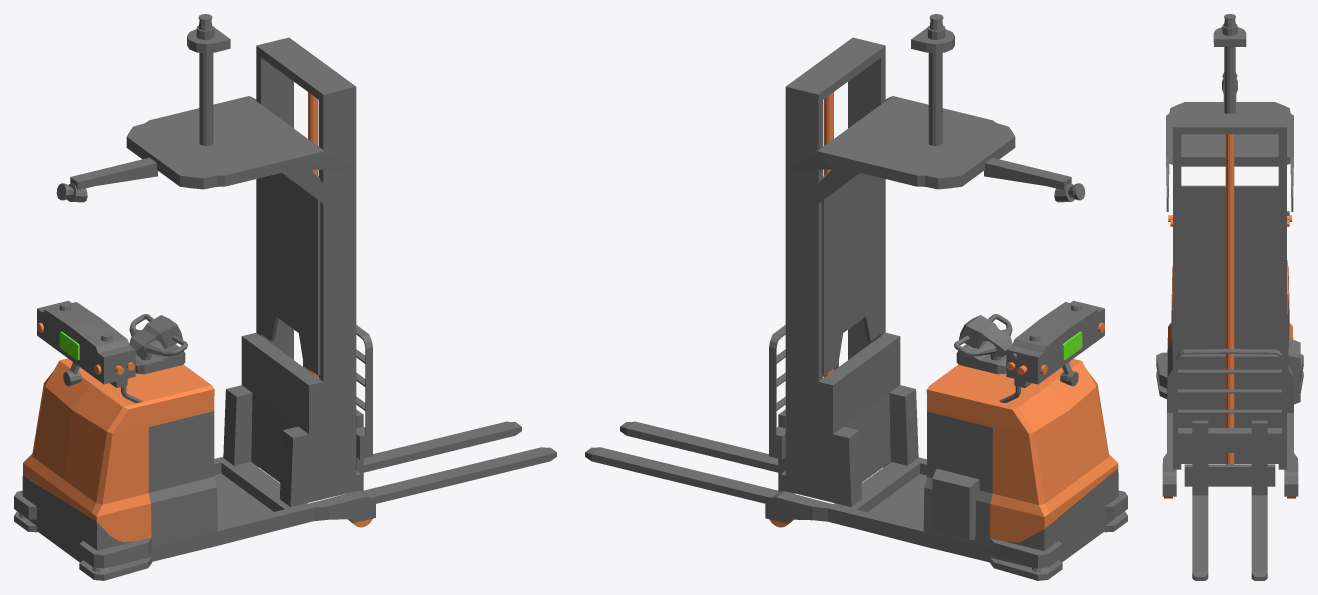
Rendered from OAE low poly.fbx.
3 views of the same model, side by side, from view 1: azimuth 30°, elevation 25°; view 2: azimuth 150°, elevation 25°; view 3: azimuth 270°, elevation 25° (orthographic). The views are drawn at different scales.
Visible parts, largest first — view 1: frontmass, mainbody, orange, roof, mastcover, fork, controlbox, sensortop, sensor.001, sensorfront, Cube.003, sensor (+2 smaller); view 2: frontmass, orange, mainbody, roof, mastcover, fork, controlbox, chargepad, sensortop, sensor.001, sensorfront, Cube.003 (+3 smaller); view 3: mastcover, frontmass, fork, roof, mainbody, pulley, sensortop, chargepad, sensor.001, orange, cone.001.
Part boxes in pixels (x1,y1,x2,y2): frontmass: (223,37,356,506); mainbody: (22,411,375,567); orange: (23,343,214,542); roof: (126,96,352,209); mastcover: (257,173,320,375); fork: (303,325,556,503); controlbox: (37,300,135,387); sensortop: (187,27,230,145); sensor.001: (14,490,151,568); sensorfront: (70,157,157,190); Cube.003: (129,315,182,356); sensor: (14,511,152,580); frontmass: (785,37,918,506); orange: (926,359,1118,542); mainbody: (765,411,1118,567); roof: (789,96,1015,209); mastcover: (821,173,884,375); fork: (585,325,838,503); controlbox: (1006,300,1104,387); chargepad: (932,468,979,539); sensortop: (911,27,954,145); sensor.001: (990,490,1127,568); sensorfront: (984,157,1071,190); Cube.003: (959,315,1012,356); mastcover: (1181,185,1278,350); frontmass: (1173,113,1286,469); fork: (1176,349,1283,580); roof: (1166,102,1293,211); mainbody: (1162,299,1298,496); pulley: (1225,134,1234,464); sensortop: (1213,27,1246,113); chargepad: (1288,338,1300,404); sensor.001: (1156,352,1303,388); orange: (1167,260,1293,371); cone.001: (1222,14,1237,35).
Bounding box in the file's own units: 296 × 299 × 92.4.
